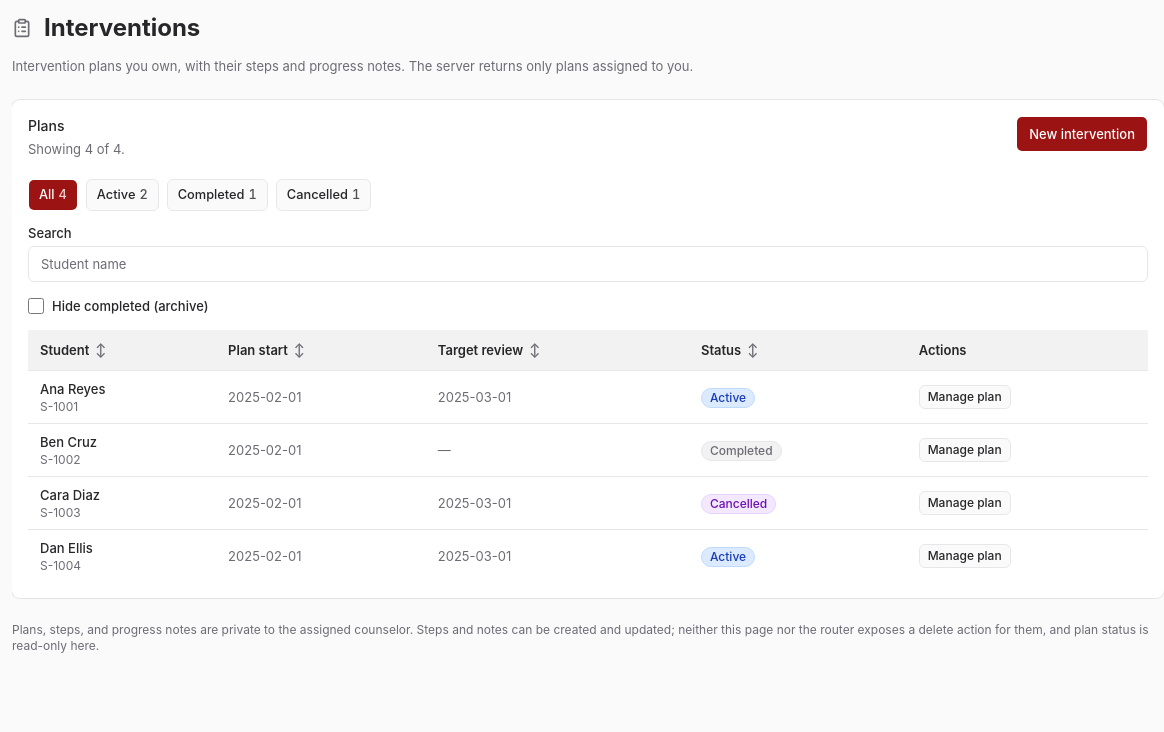
InterventionsPage › searches by student name
The width and height of the screenshot is (1164, 732).
Expected: the text "Ana Reyes" is shown, [40,381,105,397]
In the search field labelled "Search": (588, 264) [28,246,1148,282], type "cara"
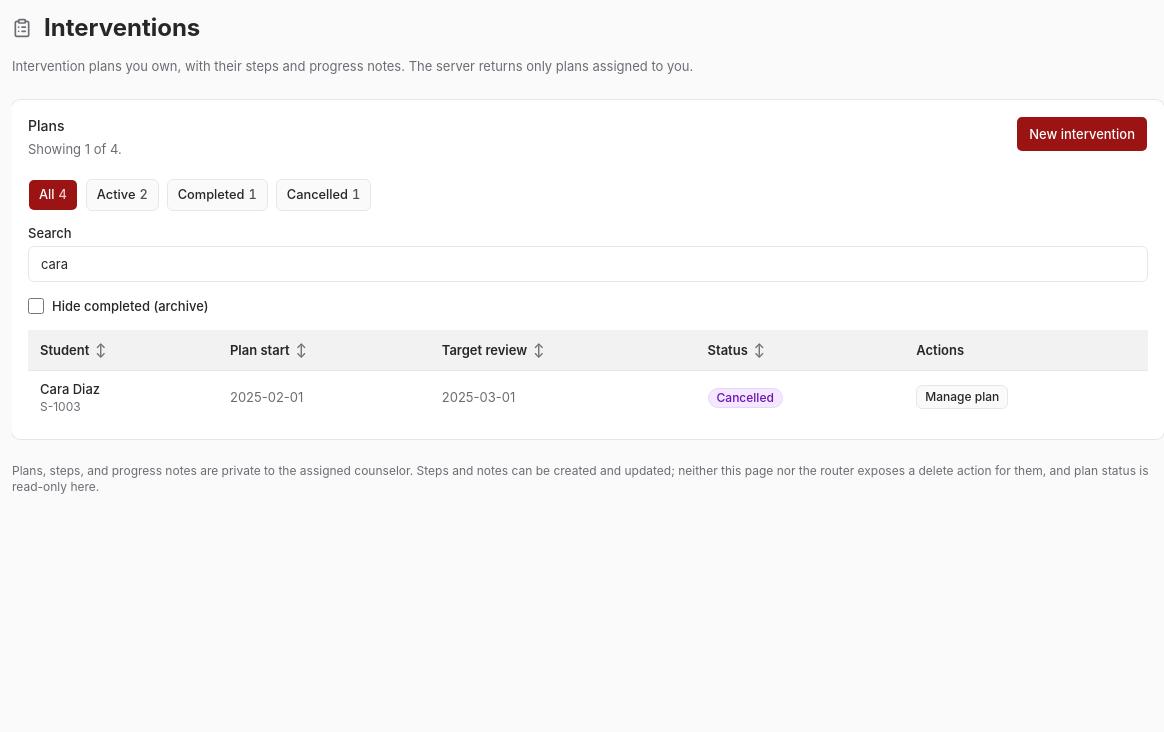
Expected: the text "Cara Diaz" is shown, [40,381,100,397]
Now the text "Ana Reyes" is gone
